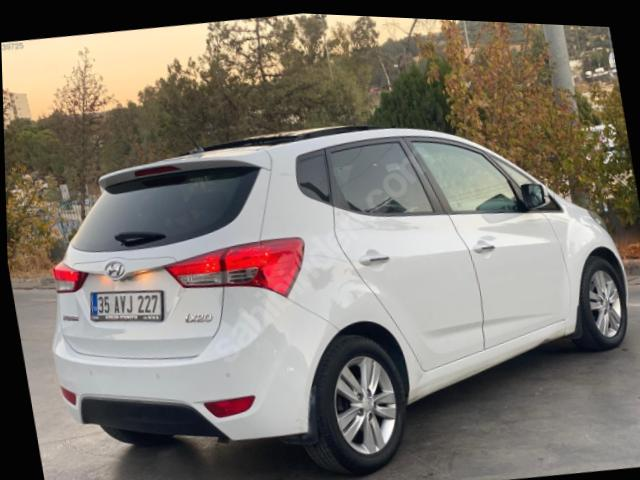plaka: (90, 290, 164, 321)
